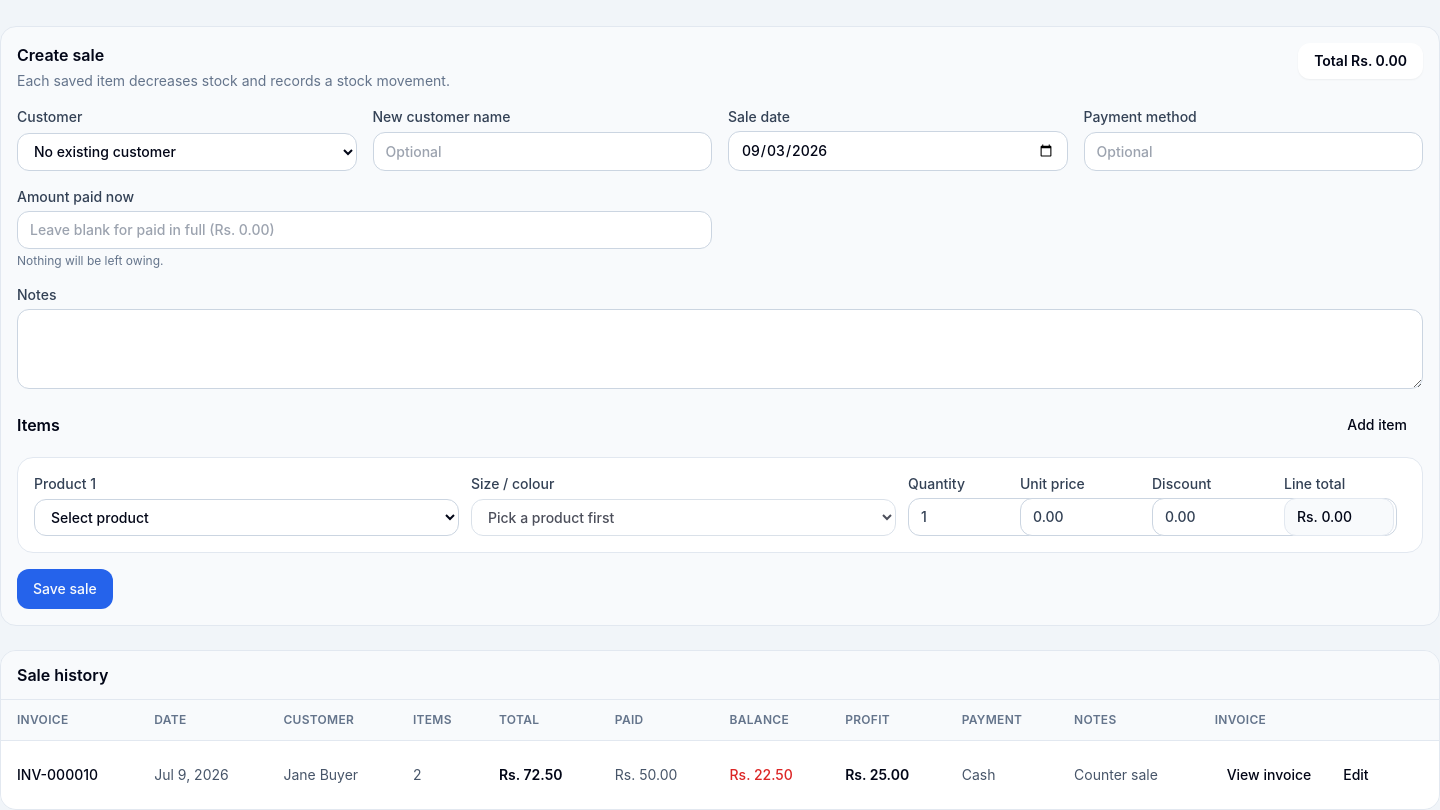
Test case: SalesScreen › loads and displays an invoice preview from sale history
This screenshot has width=1440, height=810.
(page scrolled)
Check: the text "INV-000010" is shown, box left=1, top=740, right=138, bottom=809
Click the button "View invoice": (1269, 775) left=1215, top=757, right=1323, bottom=793
(page scrolled)
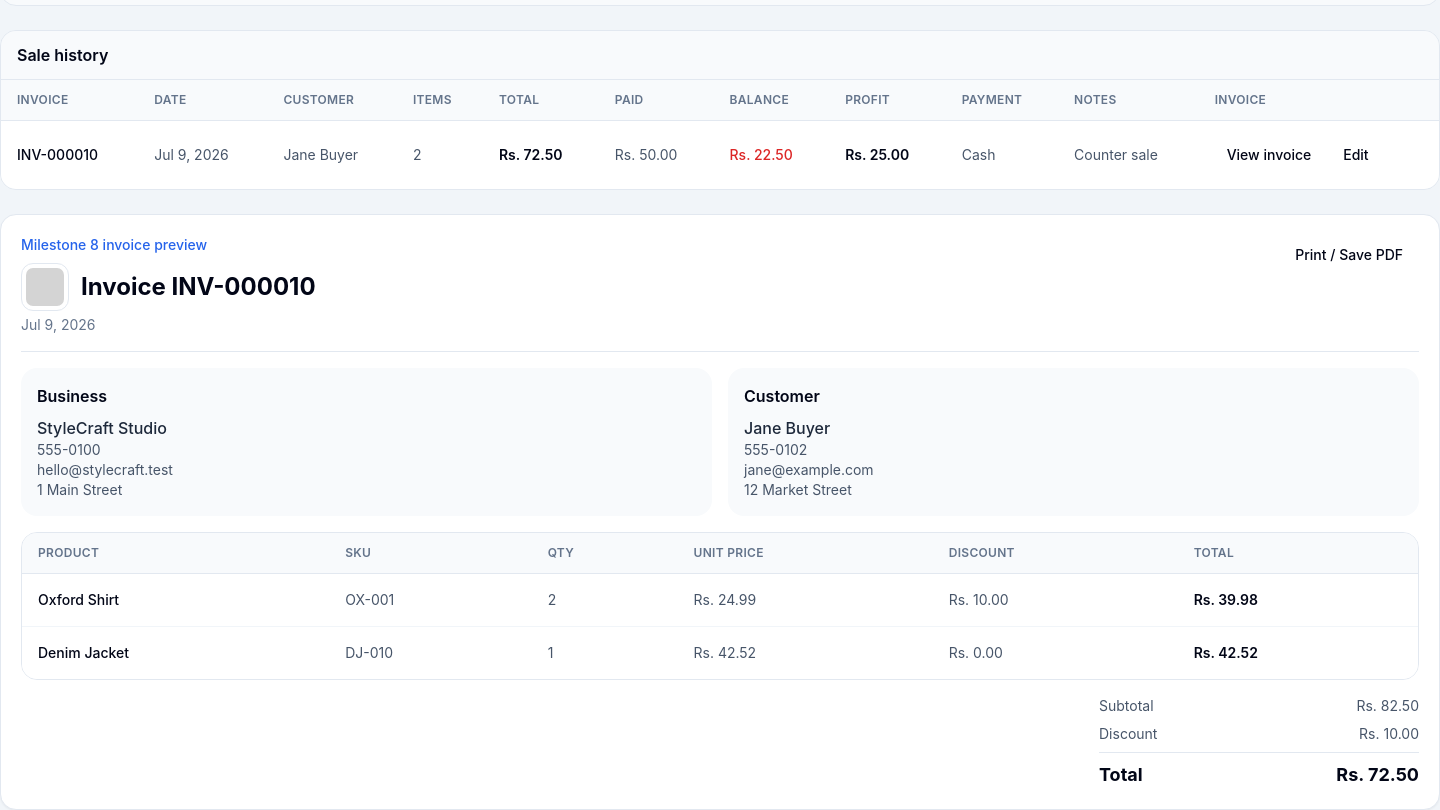
Check: the element "invoice preview" is shown
Check: the heading "Invoice INV-000010" is shown, box left=81, top=271, right=316, bottom=303
Check: the text "StyleCraft Studio" is shown, box left=37, top=418, right=167, bottom=438
